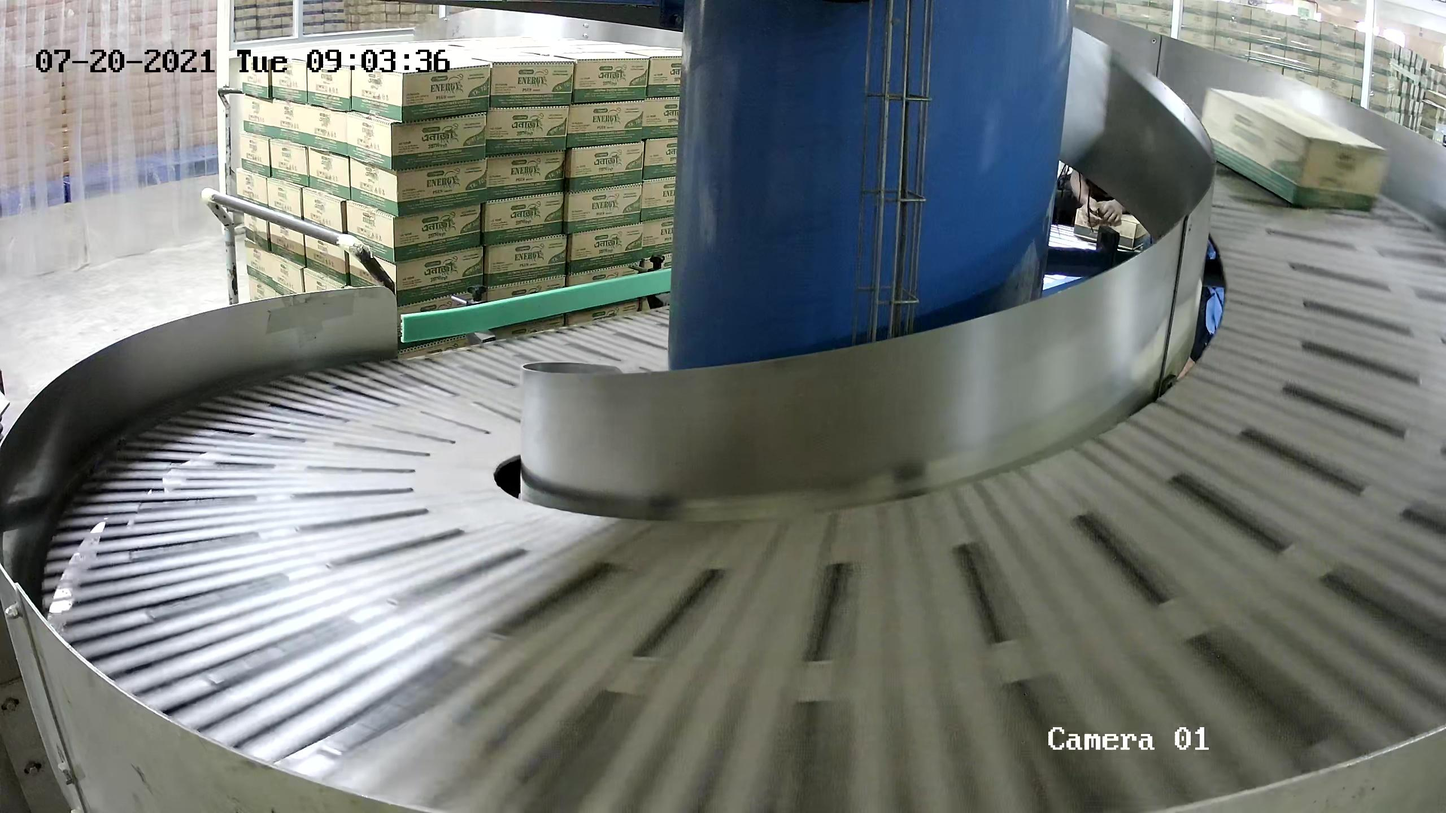Box: (1198, 85, 1389, 212)
